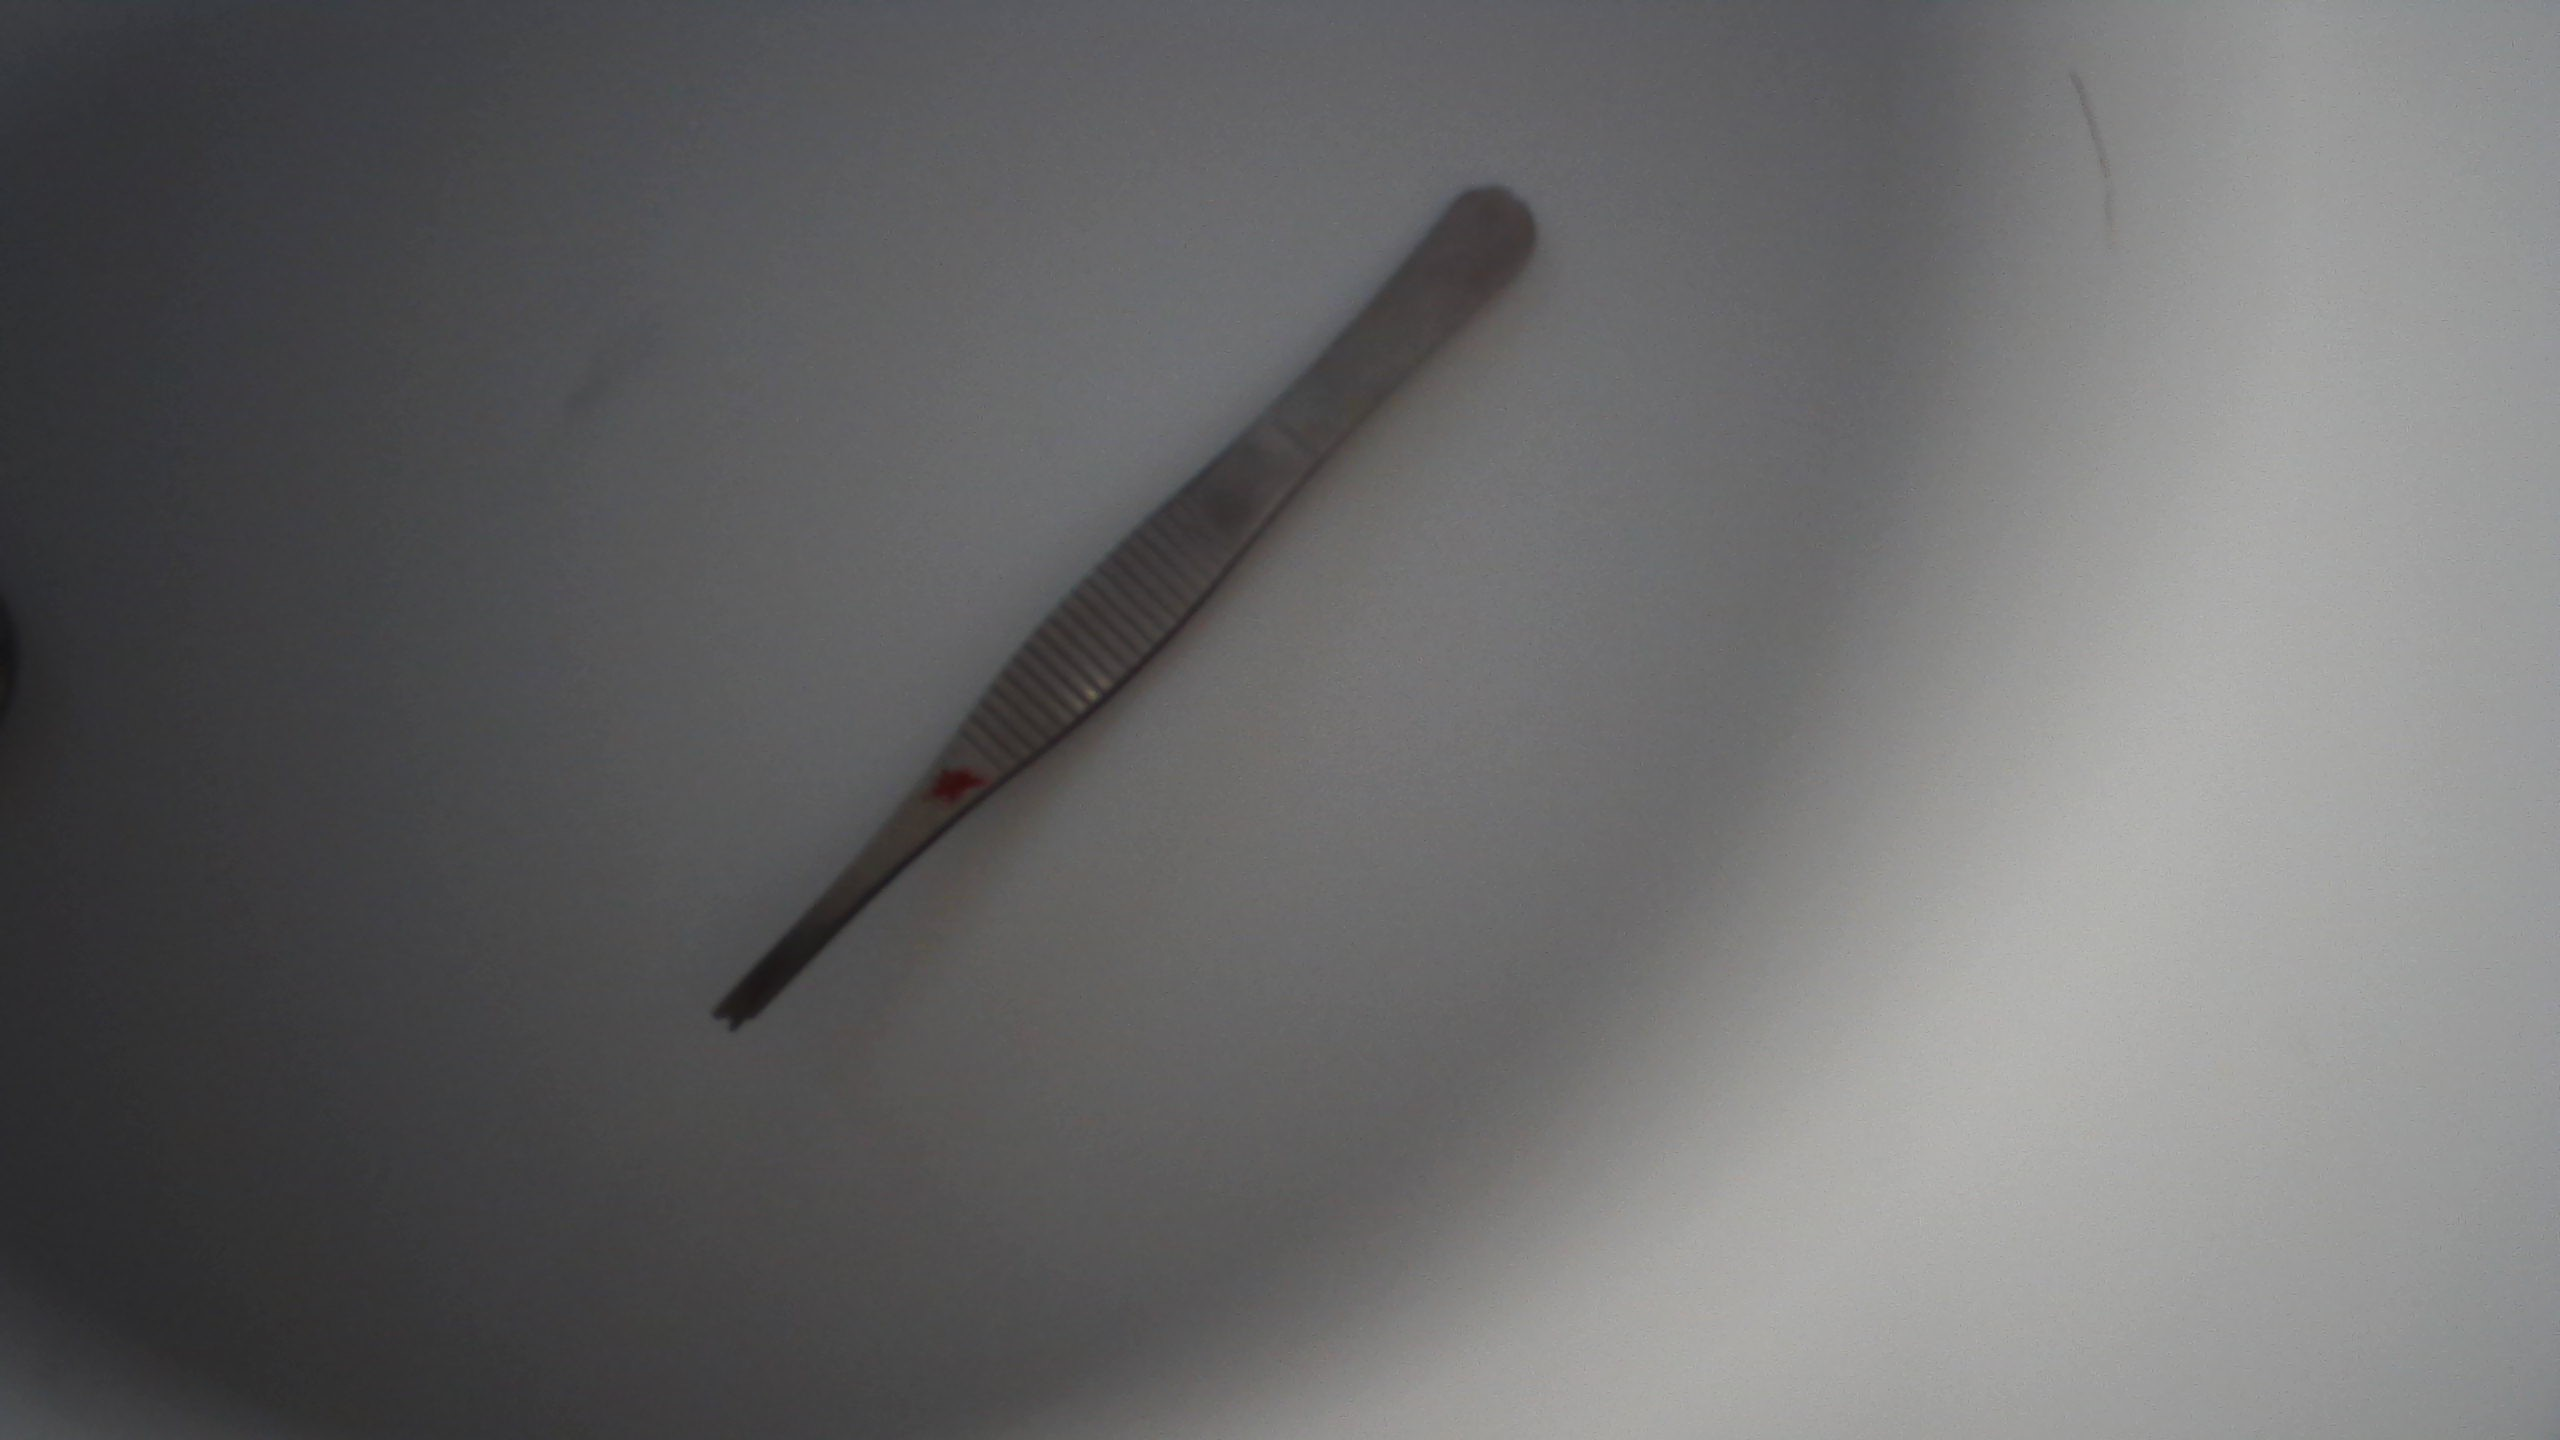Stain: (922, 760, 995, 806)
